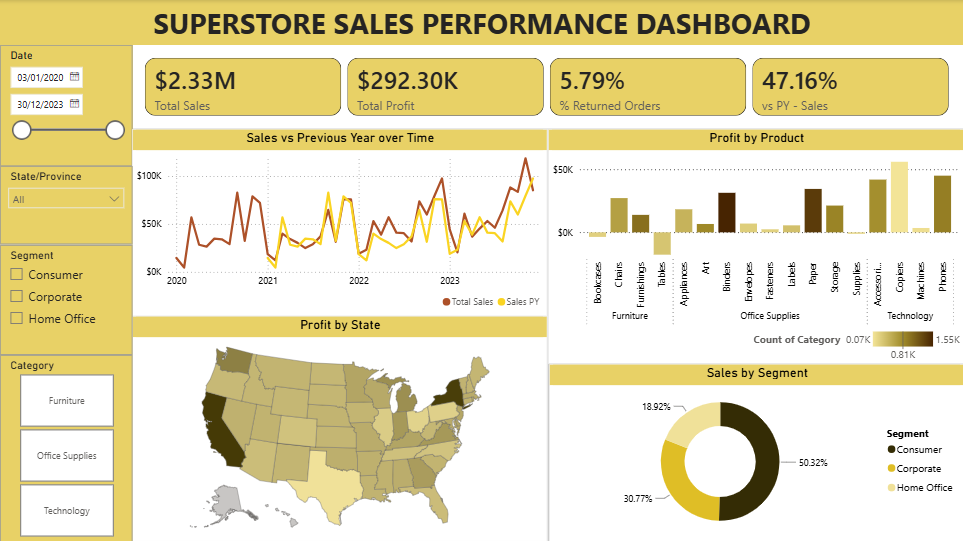

Layout of this report page (visuals, bound fields, positions):
{"tool":"powerbi","page":{"name":"Page 1","canvas":[1280,720],"ordinal":0},"visuals":[{"type":"textbox","box":[0,0,1280.5,60],"z":0},{"type":"cardVisual","fields":{"Data":["Key Measures.Sales","Key Measures.Total Profit","Key Measures.% Returned Orders","Key Measures.vs PY - Sales"]},"box":[175.6,60,1104.9,111.2],"z":1000},{"type":"slicer","fields":{"Values":["Date Table.Date"]},"box":[0,60,175.6,161],"z":2000},{"type":"lineChart","title":"Sales vs Previous Year over Time","fields":{"Category":["Date Table.Start of Month"],"Y":["Key Measures.Total Sales","Key Measures.Sales PY"]},"box":[175.6,171.2,551.7,248.8],"z":3000},{"type":"columnChart","title":"Profit by Product","fields":{"Y":["Key Measures.Total Profit"],"Category":["Orders.Category","Orders.Sub-Category"]},"box":[727.3,171.2,553.2,311.7],"z":4000},{"type":"shapeMap","title":"Profit by State","fields":{"Value":["Key Measures.Total Profit"],"Category":["Orders.State/Province"]},"box":[175.6,420,551.7,300],"z":5000},{"type":"donutChart","title":"Sales by Segment","fields":{"Category":["Orders.Segment"],"Y":["Key Measures.Total Sales"]},"box":[728.8,482.9,551.7,237.1],"z":6000},{"type":"slicer","fields":{"Values":["Orders.State/Province"]},"box":[0,221,175.6,103.9],"z":7000},{"type":"slicer","fields":{"Values":["Orders.Segment"]},"box":[0,324.9,175.6,146.3],"z":8000},{"type":"slicer","fields":{"Values":["Orders.Category"]},"box":[0,471.2,175.6,248.8],"z":9000}]}

Visuals, with their boxes in screenshot pixels (x1, y1, x2, y2), scaled from the page's 1280x720 canvas onto the 963x541 screenshot:
textbox: {"x1": 0, "y1": 0, "x2": 962, "y2": 45}
cardVisual - Key Measures.Sales x Key Measures.Total Profit: {"x1": 132, "y1": 45, "x2": 962, "y2": 129}
slicer - Date Table.Date: {"x1": 0, "y1": 45, "x2": 132, "y2": 166}
"Sales vs Previous Year over Time" lineChart: {"x1": 132, "y1": 129, "x2": 547, "y2": 316}
"Profit by Product" columnChart: {"x1": 547, "y1": 129, "x2": 962, "y2": 363}
"Profit by State" shapeMap: {"x1": 132, "y1": 316, "x2": 547, "y2": 540}
"Sales by Segment" donutChart: {"x1": 548, "y1": 363, "x2": 962, "y2": 540}
slicer - Orders.State/Province: {"x1": 0, "y1": 166, "x2": 132, "y2": 244}
slicer - Orders.Segment: {"x1": 0, "y1": 244, "x2": 132, "y2": 354}
slicer - Orders.Category: {"x1": 0, "y1": 354, "x2": 132, "y2": 540}
